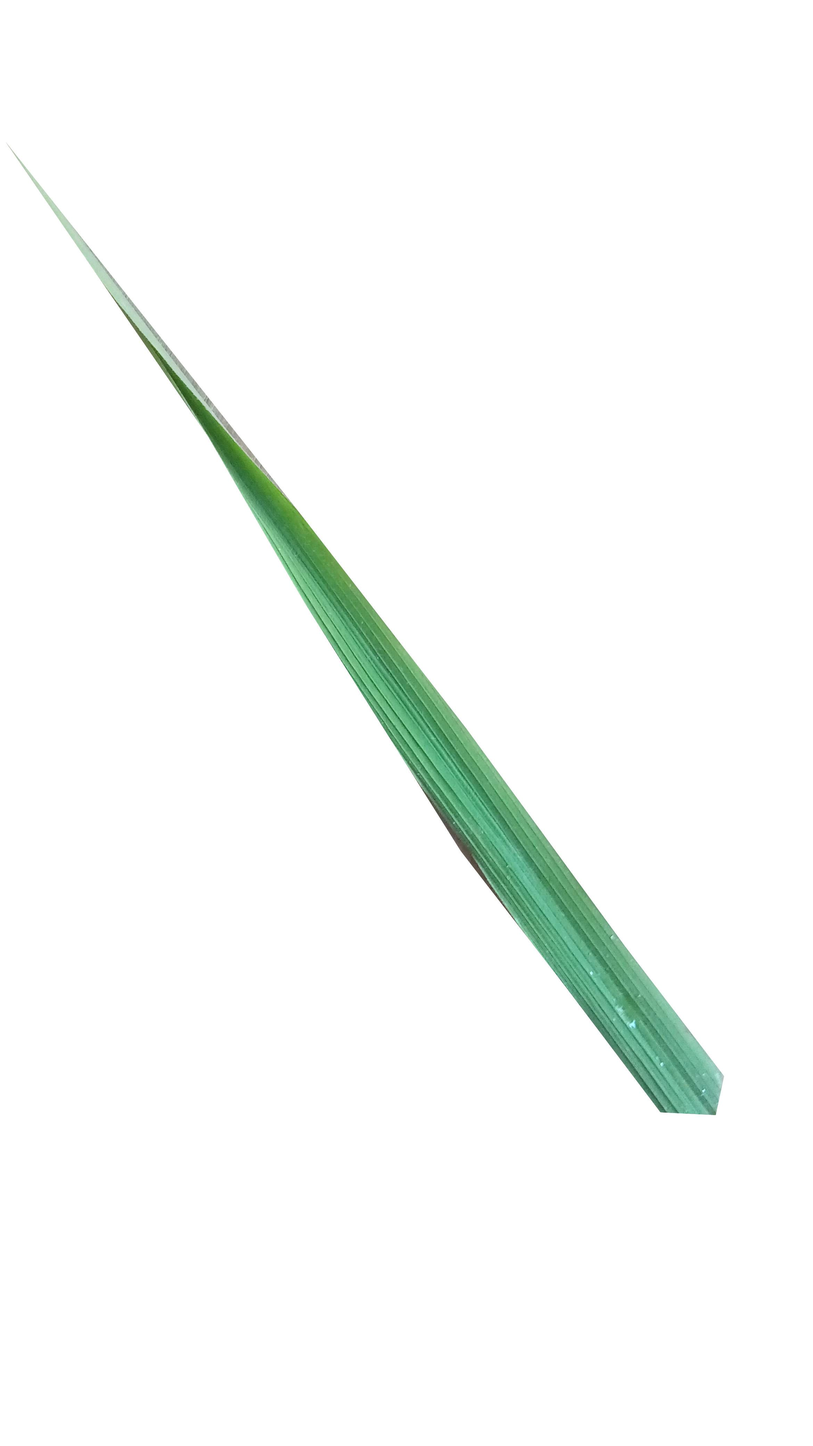Healthy: (13, 150, 725, 1123)
